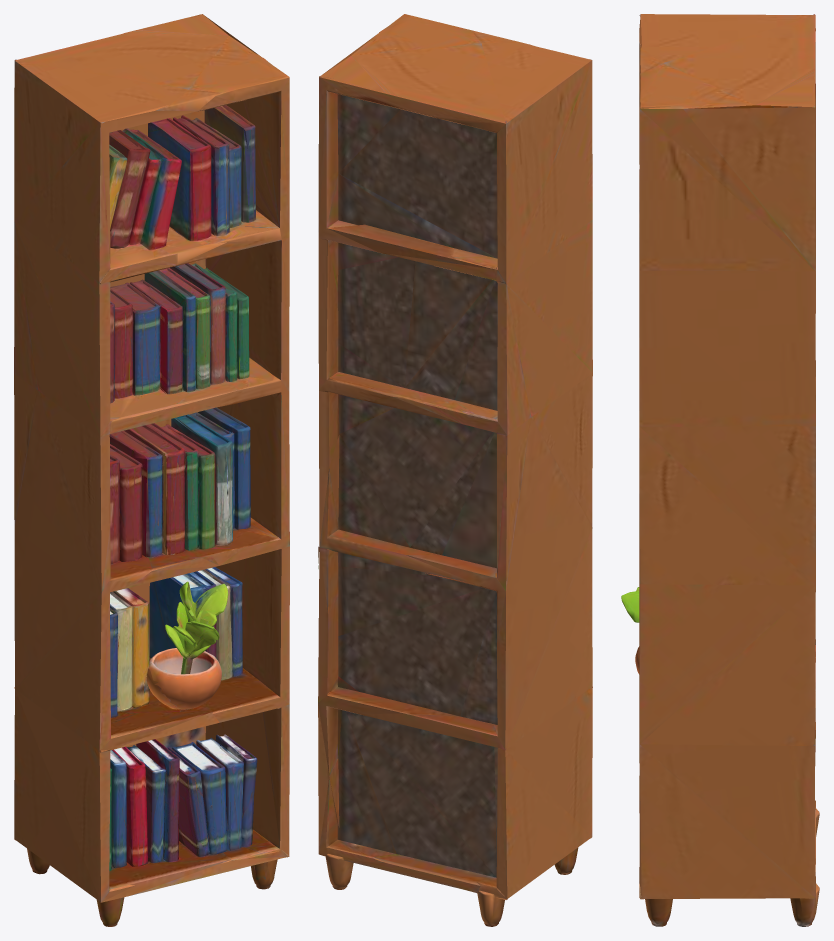
File: bookshelf.glb
3 views of the same model, side by side, from view 1: azimuth 30°, elevation 25°; view 2: azimuth 150°, elevation 25°; view 3: azimuth 270°, elevation 25° (orthographic).
Bounding box in the file's own units: 0.466 × 1.9 × 0.4151.
Materials: 1 (1 with a texture image).
